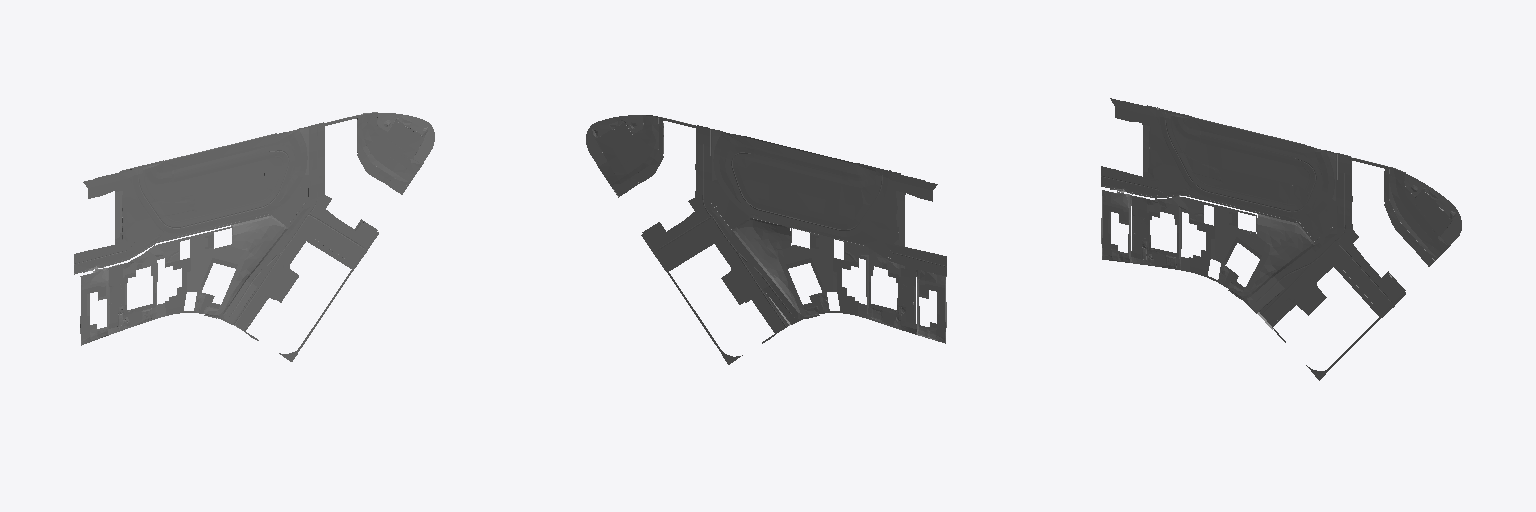
Rendered from sc1_11_ground01.obj.
The picture shows the model from 3 angles: view 1: azimuth 30°, elevation 25°; view 2: azimuth 150°, elevation 25°; view 3: azimuth 330°, elevation 25°; orthographic projection.
Size of the model in its own units: 159 by 98.39 by 2.95.